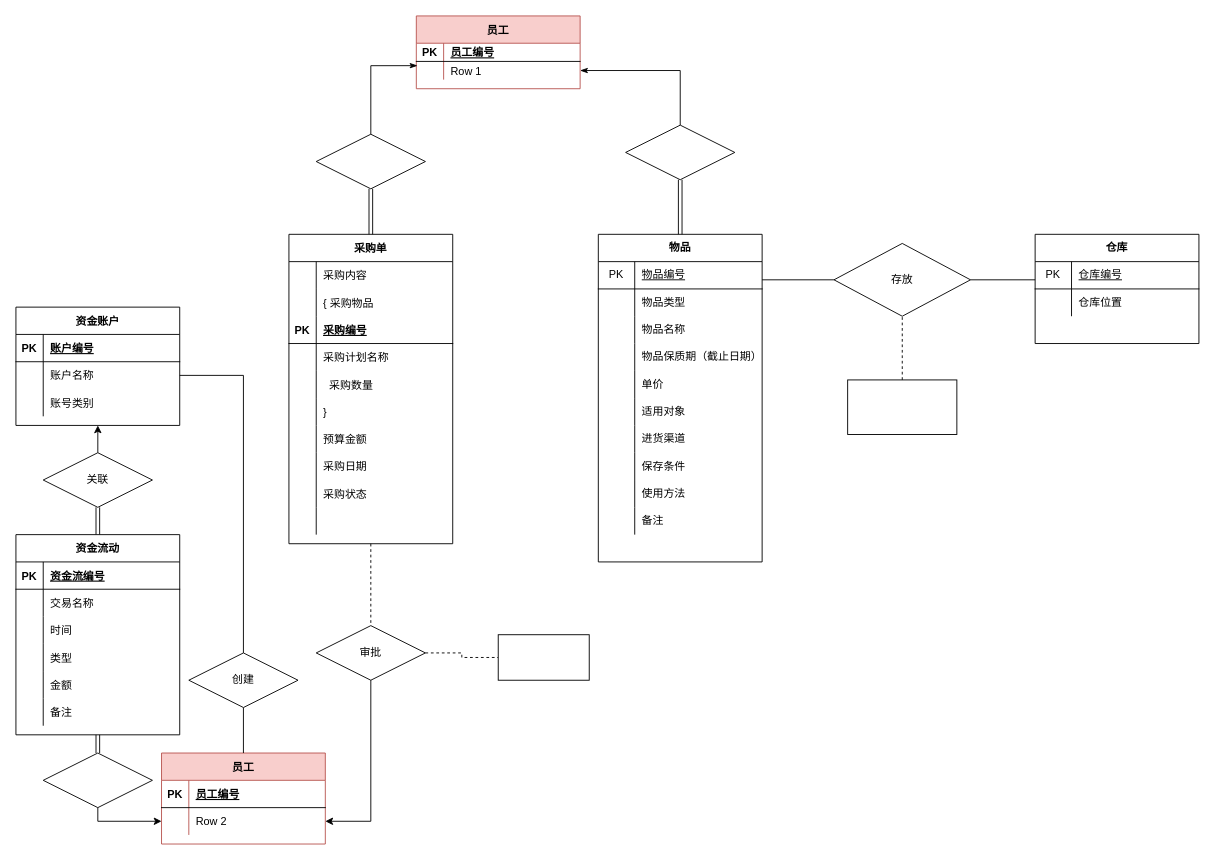
Image size: 1215x860. Some labels were removed from this diagram. The shapes that lost their labels are listed below. From the top down, each one's centre as x and y in pixels, then its label:
the point at 370,161: 安排
the point at 680,152: 放置
the point at 902,407: 物品库存
the point at 543,657: 审批状态 通过TAG 日期
the point at 97,780: 记录
